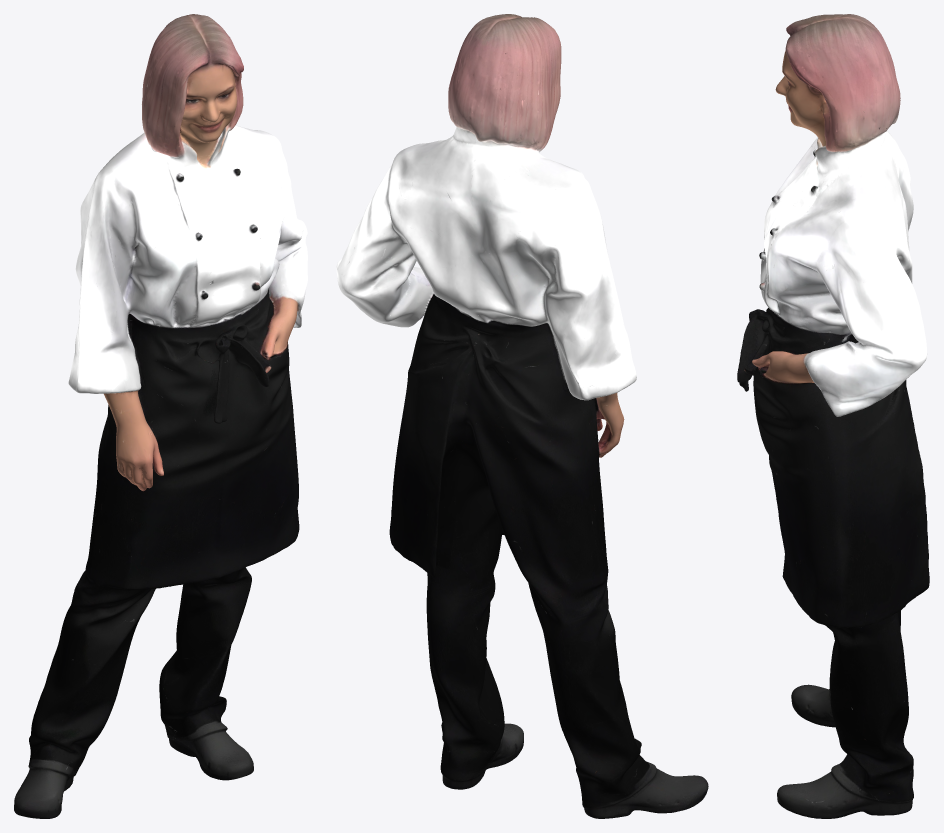
The model's file is chef_female.glb.
The picture shows the model from 3 angles, left to right: view 1: azimuth 30°, elevation 25°; view 2: azimuth 150°, elevation 25°; view 3: azimuth 270°, elevation 25°; orthographic projection. The views are drawn at different scales.
Visible parts, largest first — view 1: mesh_0; view 2: mesh_0; view 3: mesh_0.
Part boxes in pixels (box(x1,y1,x2,y2)): mesh_0: box(14, 14, 307, 818); mesh_0: box(336, 14, 708, 818); mesh_0: box(737, 14, 929, 818).
Bounding box in the file's own units: 0.8648 × 1.9 × 0.4221.
1 material, 1 textured.
